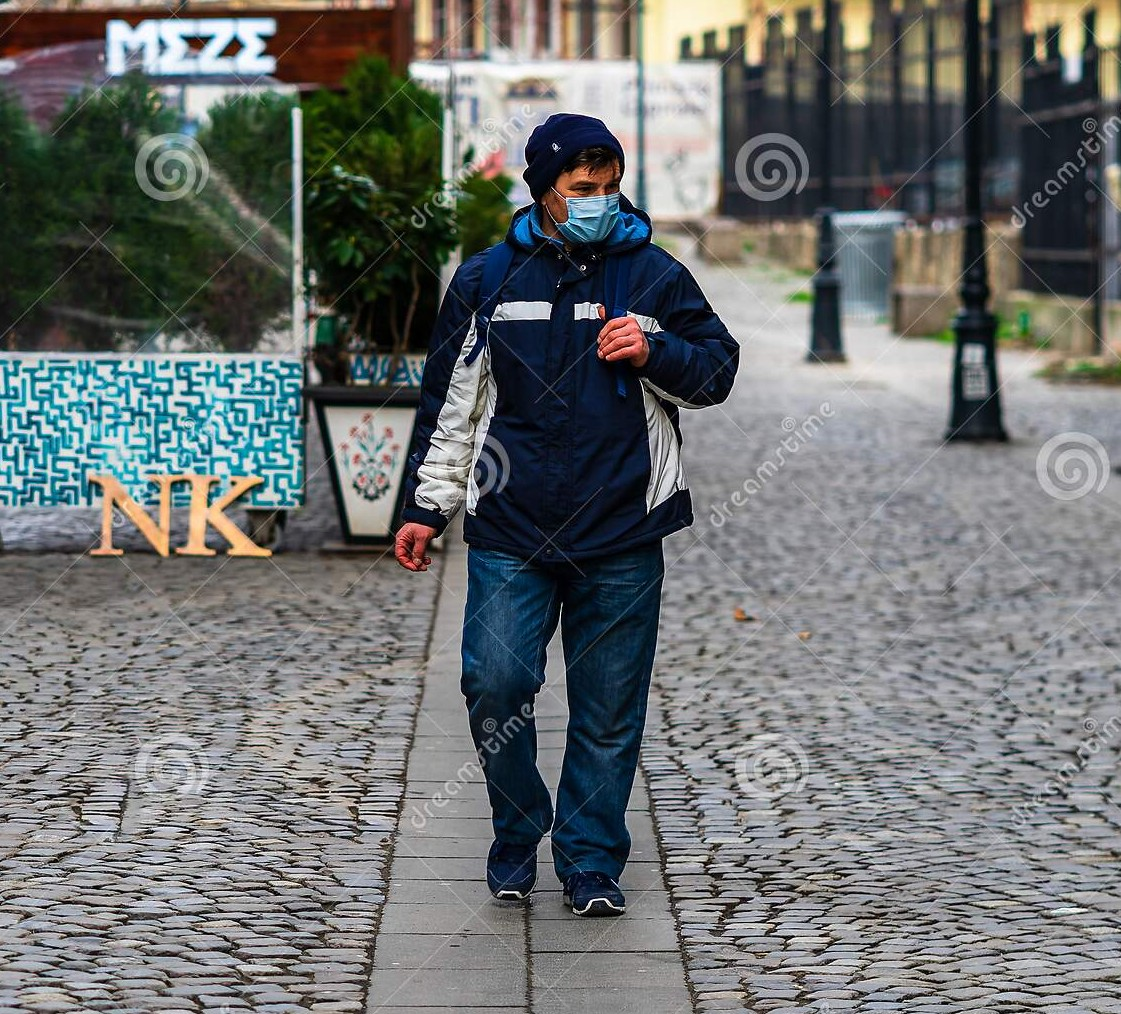with_mask: (523, 126, 632, 244)
